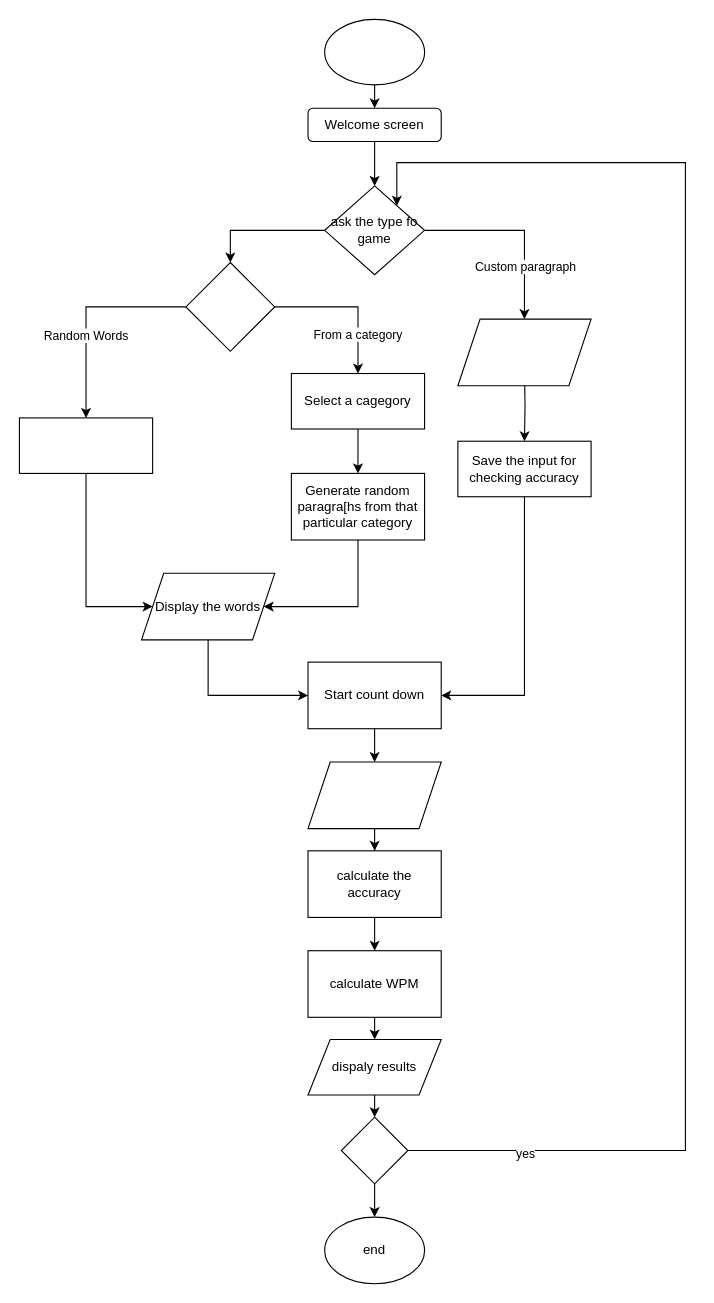
Some shapes in this 714 by 1303 pixel diagram are drawn without their labels. Each missing label, with the box of its shape:
Generate collection of N number of Random words: (18, 417, 153, 473)
Random Generator: (185, 261, 275, 351)
retry?: (340, 1116, 408, 1184)
start: (324, 18, 425, 85)
Take input sentence from user: (457, 318, 591, 386)
Take the inputs from the user: (307, 761, 441, 829)
